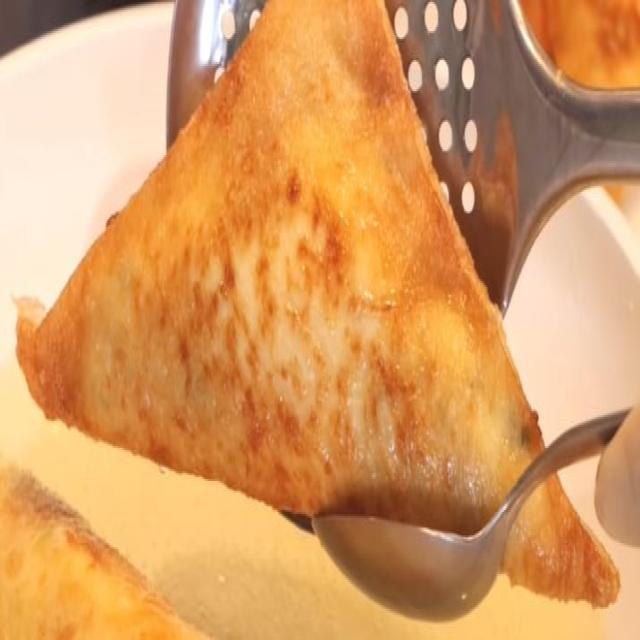brik: (29, 16, 616, 601)
